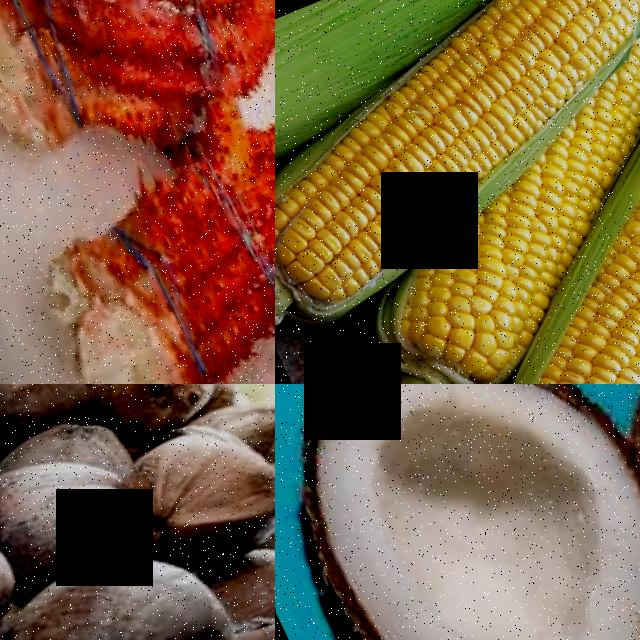coconut: (275, 384, 640, 640), (95, 406, 275, 588), (0, 526, 253, 640), (0, 437, 143, 600), (0, 384, 118, 446)
corn: (343, 155, 628, 384), (275, 80, 501, 324), (391, 0, 640, 139), (425, 241, 640, 384), (511, 42, 640, 198), (571, 66, 640, 264)
crab: (22, 70, 275, 384), (0, 0, 275, 177)
